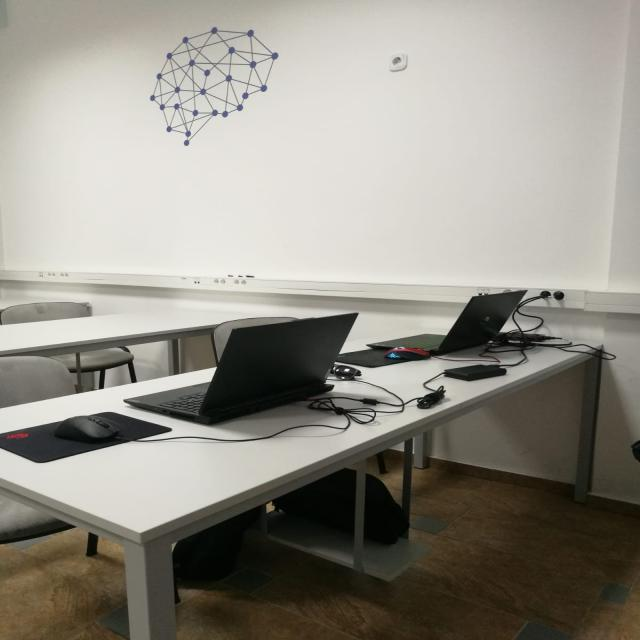Laptops_bbox: (125, 270, 395, 458)
